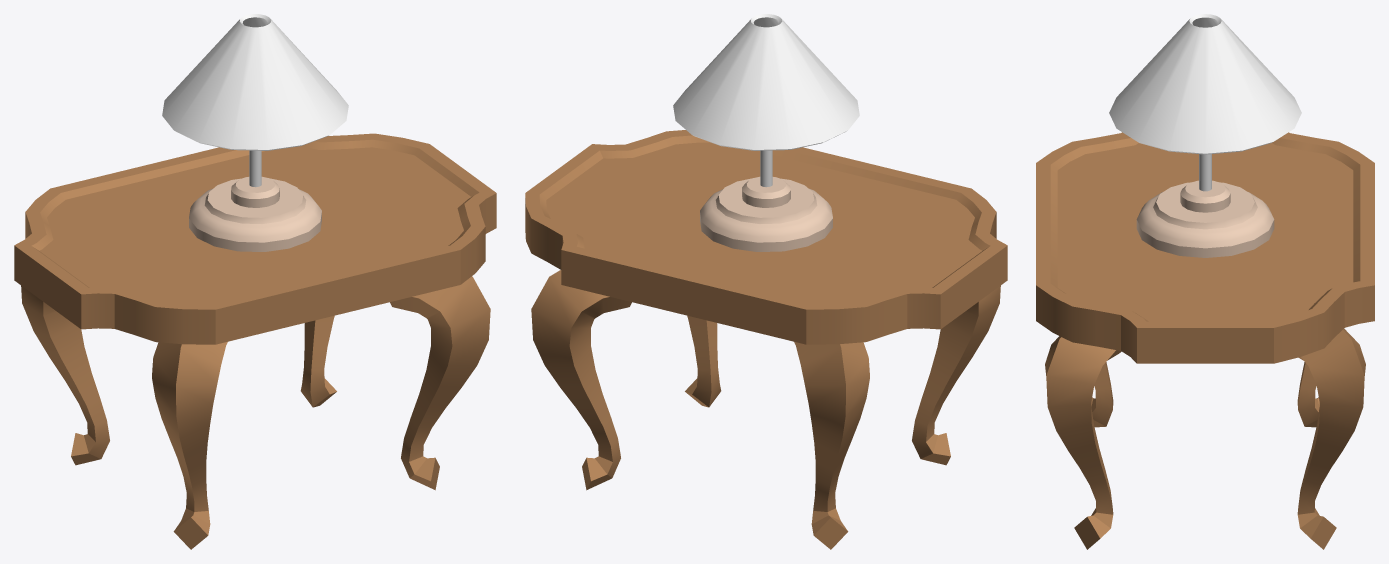
File: TableAndLamp.fbx
The picture shows the model from 3 angles, left to right: view 1: azimuth 30°, elevation 25°; view 2: azimuth 150°, elevation 25°; view 3: azimuth 270°, elevation 25°; orthographic projection. The views are drawn at different scales.
Parts seen in each view (by area): view 1: Table, Lamp; view 2: Table, Lamp; view 3: Table, Lamp.
Boxes of the visible parts, x1,y1,x2,y2 form: Table: (14,133,496,549); Lamp: (162,14,348,251); Table: (525,130,1007,549); Lamp: (673,14,859,251); Table: (1036,132,1374,549); Lamp: (1109,14,1301,257).
Bounding box in the file's own units: 200 × 138 × 210.
